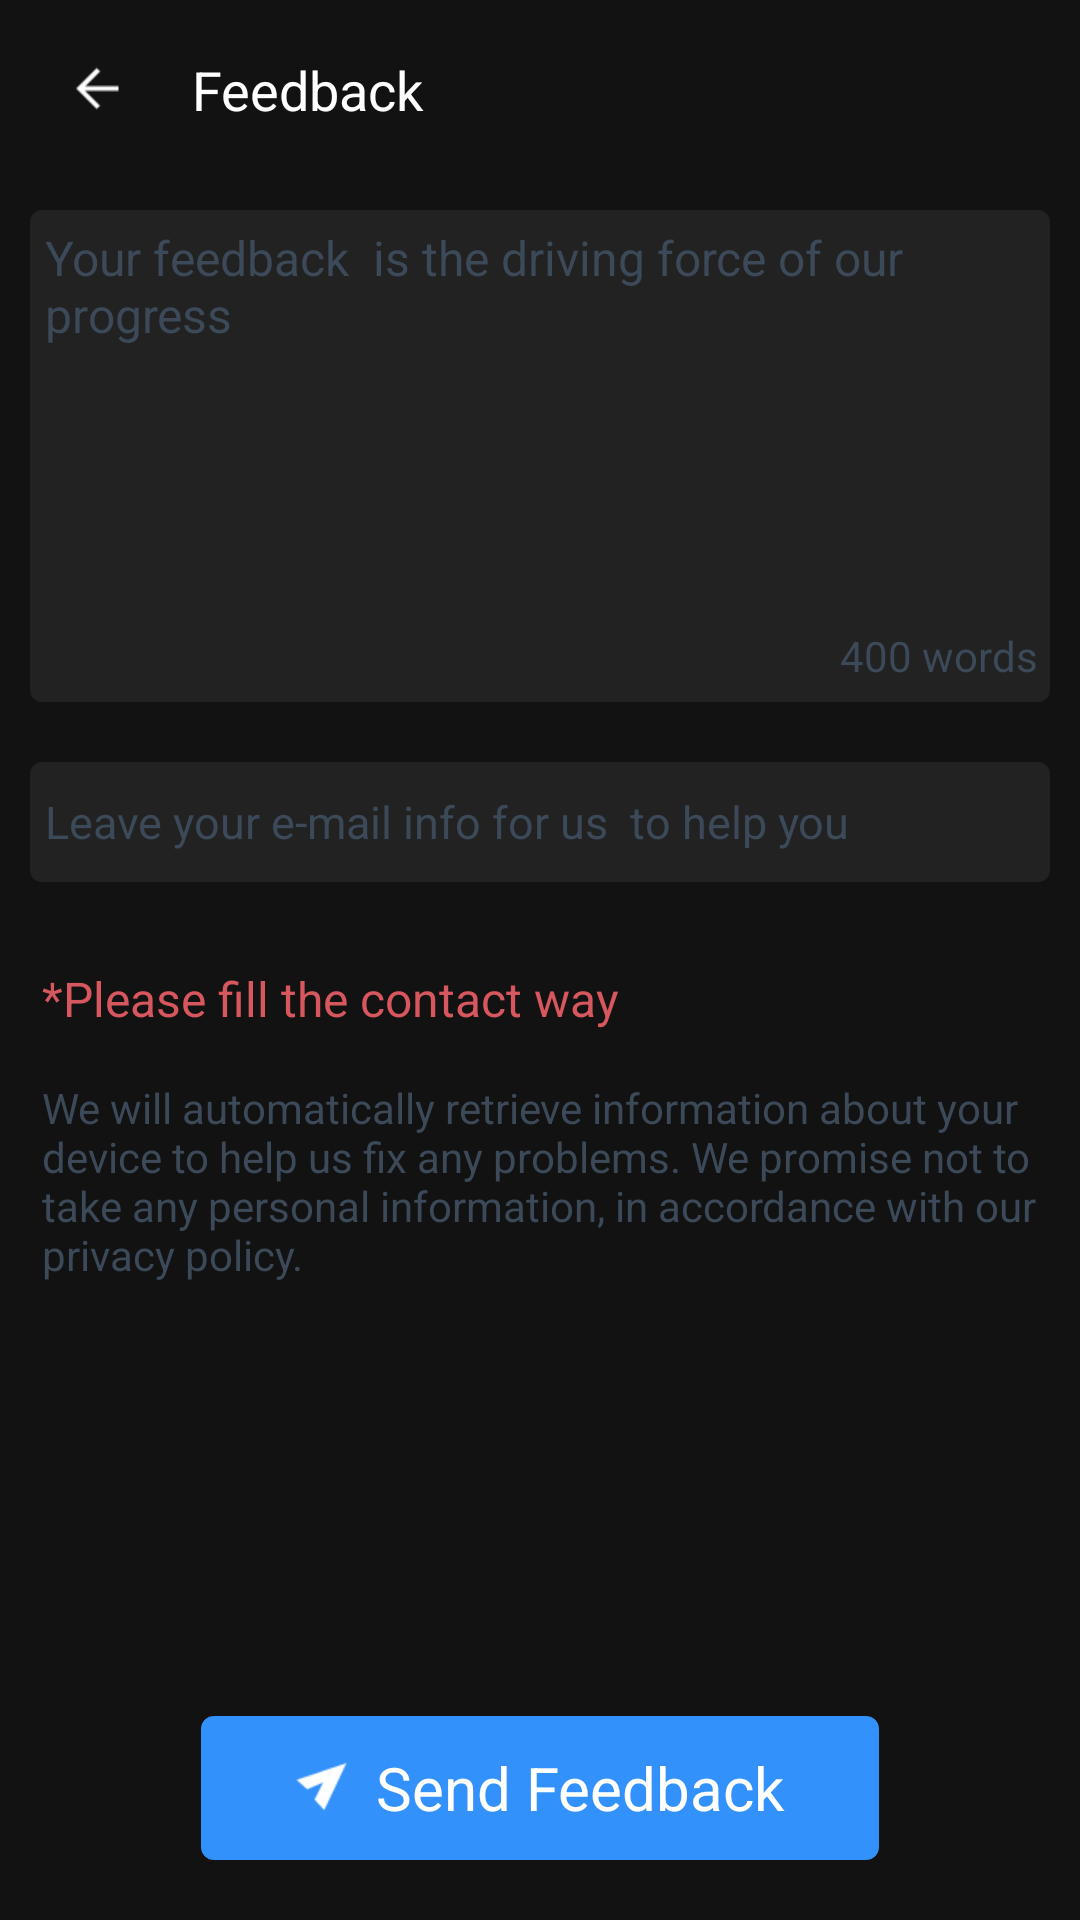

Icon click points for this 1080px×1920px phone screenshot, format [x,y]:
paperplane: [321,1786]
